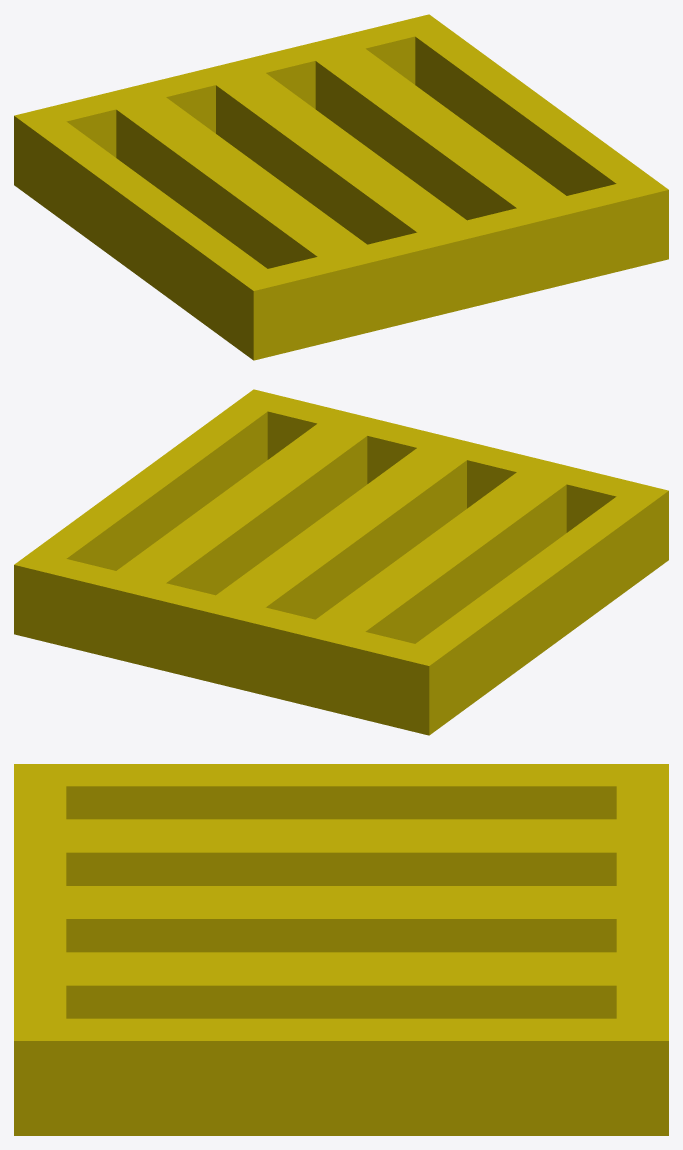
Rendered from sp_grating_a.dae.
The picture shows the model from 3 angles, top to bottom: view 1: azimuth 30°, elevation 25°; view 2: azimuth 150°, elevation 25°; view 3: azimuth 270°, elevation 25°; orthographic projection. The views are drawn at different scales.
Visible parts, largest first — view 1: grating; view 2: grating; view 3: grating.
Part boxes in pixels (left/top/right/bottom): grating: left=14, top=14, right=668, bottom=360; grating: left=14, top=389, right=668, bottom=735; grating: left=14, top=764, right=668, bottom=1135.
Bounding box in the file's own units: 0.25 × 0.25 × 0.04.
